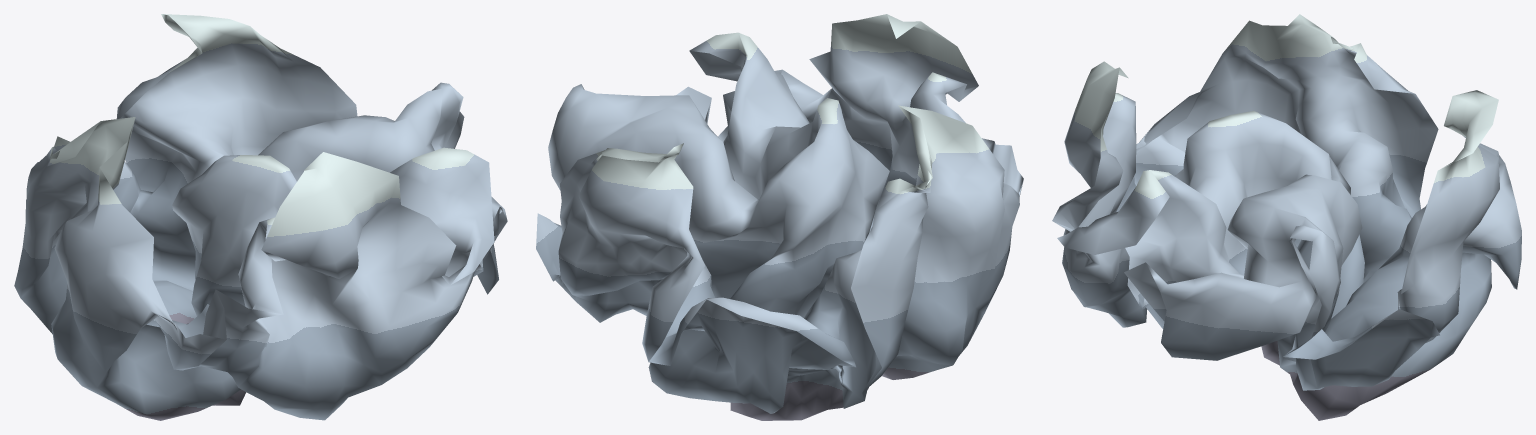
File: papel.002.fbx
The picture shows the model from 3 angles, left to right: view 1: azimuth 30°, elevation 25°; view 2: azimuth 150°, elevation 25°; view 3: azimuth 270°, elevation 25°; orthographic projection. The views are drawn at different scales.
Parts seen in each view (by area): view 1: papel.002; view 2: papel.002; view 3: papel.002.
Part boxes in pixels (left/top/right/bottom): papel.002: left=14, top=14, right=507, bottom=420; papel.002: left=536, top=14, right=1023, bottom=420; papel.002: left=1052, top=14, right=1521, bottom=420.
Size of the model in its own units: 146 by 107 by 144.
